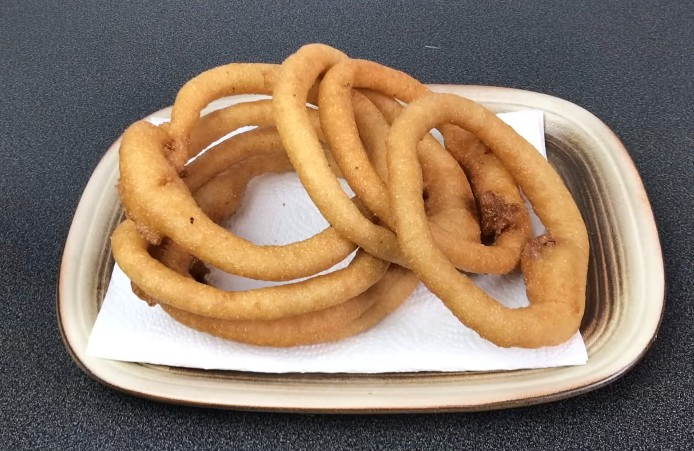sel_roti: (118, 61, 352, 282), (395, 90, 591, 347), (275, 43, 402, 256), (129, 254, 384, 348)
